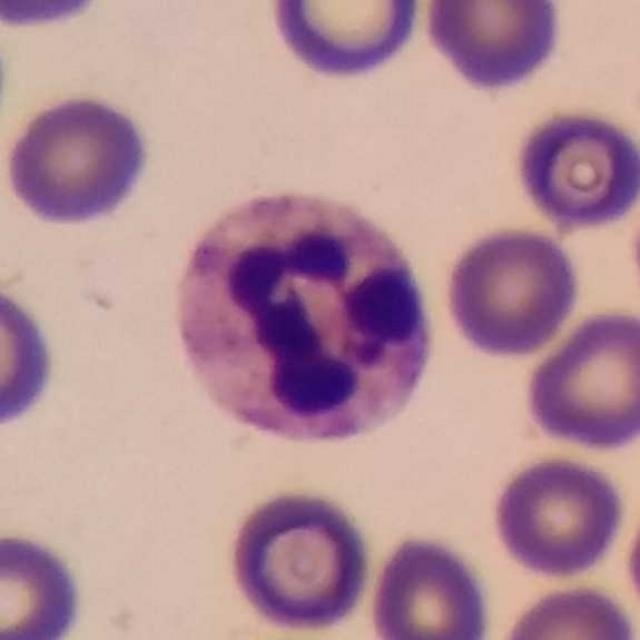Neutrophil: (159, 172, 442, 457)
RBC: (222, 483, 378, 637), (1, 89, 157, 230), (438, 222, 586, 362), (488, 451, 628, 581), (520, 304, 640, 454), (508, 103, 640, 233), (418, 0, 569, 96), (364, 531, 495, 640), (262, 0, 428, 85), (0, 273, 62, 438), (0, 526, 89, 640), (494, 580, 639, 640), (1, 0, 120, 36)
